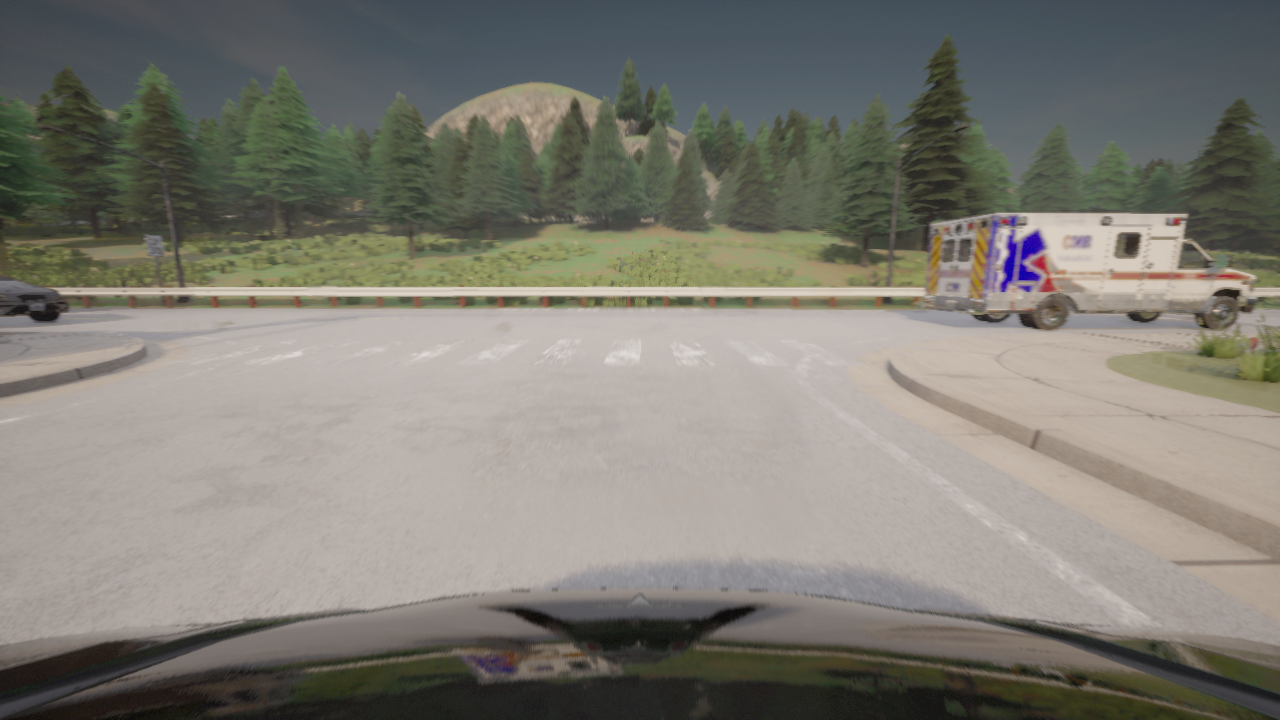cyclist: (0, 588, 1279, 719), (914, 213, 1256, 330)
